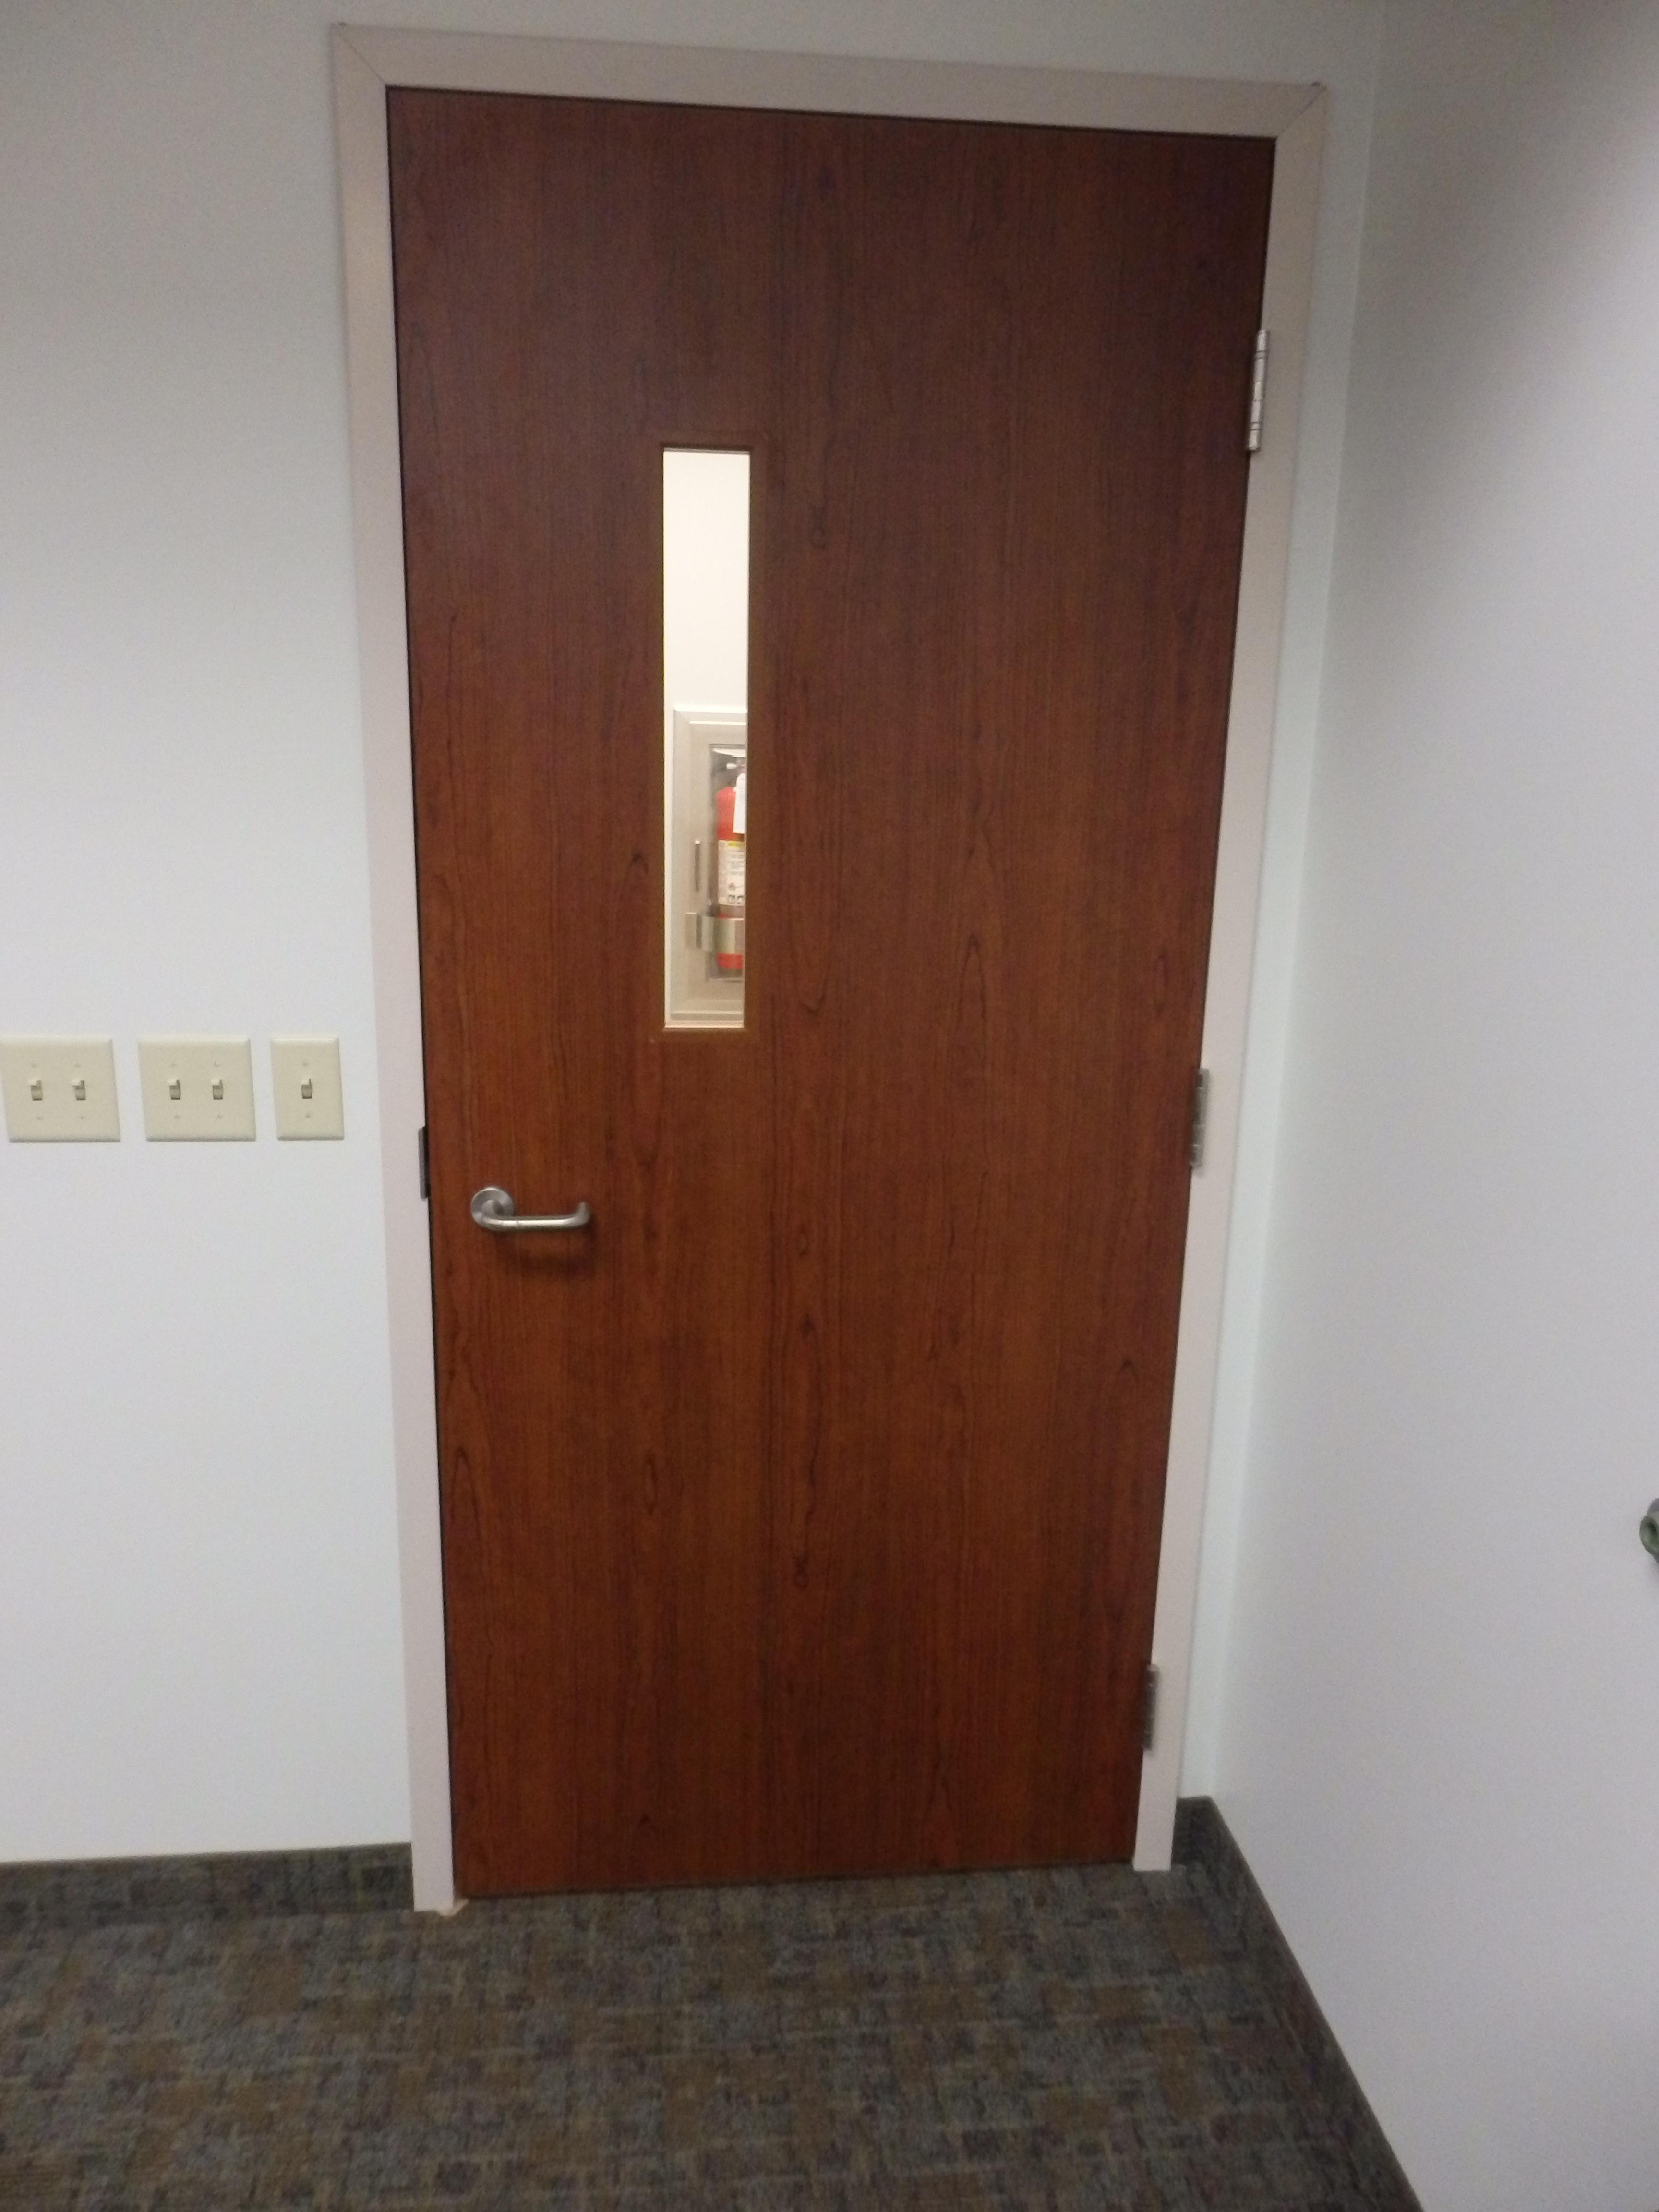door: (333, 28, 1331, 1909)
